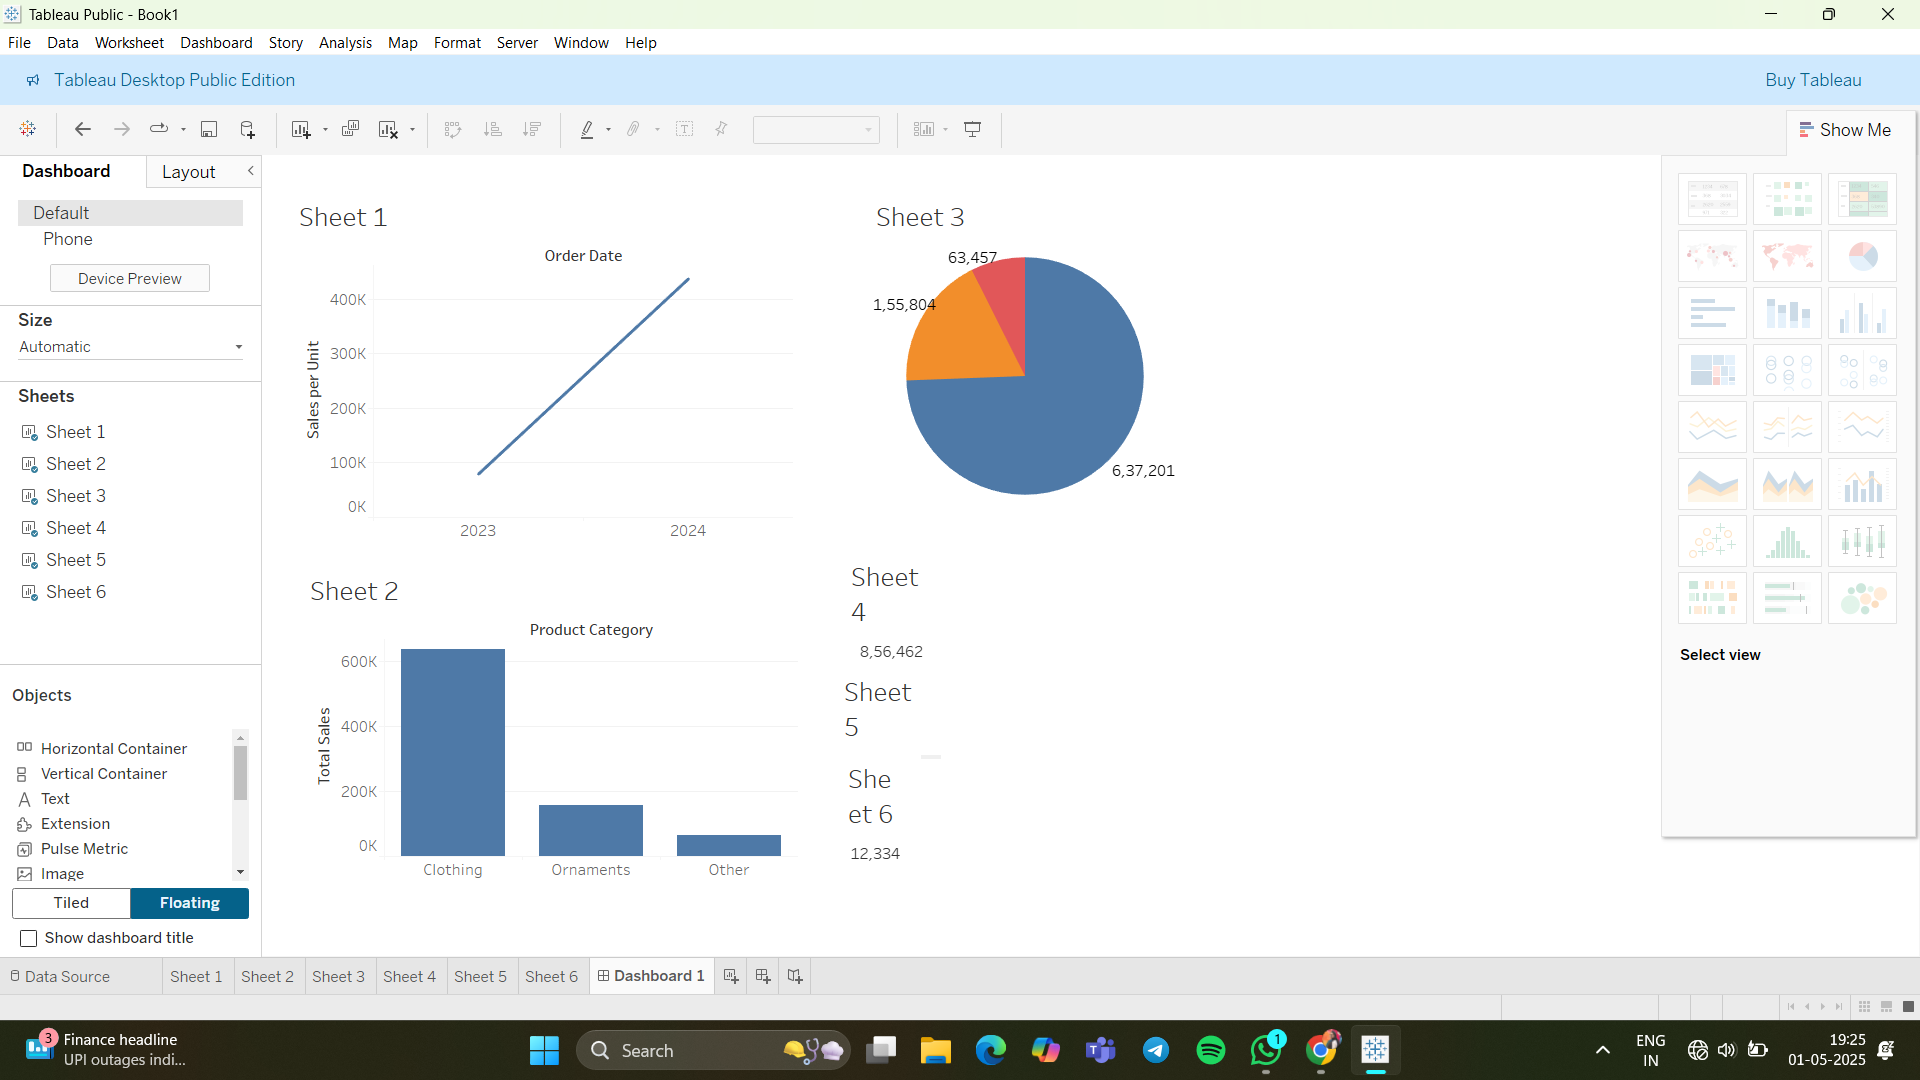

The page's visual inventory and layout, read from the dashboard file:
{"tool":"tableau","page":{"name":"Dashboard 1","canvas":[1000,1000],"units":"permille","ordinal":0},"visuals":[{"type":"worksheet","title":"Sheet 1","mark":"Automatic","rows":["Sales per Unit"],"cols":["Order Date"],"box":[19.9,49.9,300.5,433.2]},{"type":"worksheet","title":"Sheet 3","mark":"Pie","box":[368.1,49.9,333.1,392]},{"type":"worksheet","title":"Sheet 4","mark":"Automatic","box":[353.1,499.4,144.8,136.1]},{"type":"worksheet","title":"Sheet 2","mark":"Automatic","rows":["Total Sales"],"cols":["Product Category"],"box":[26.6,516.9,296.9,389.5]},{"type":"worksheet","title":"Sheet 5","mark":"Automatic","box":[348.8,643,121.9,111.1]},{"type":"worksheet","title":"Sheet 6","mark":"Automatic","box":[351.2,751.6,127.3,137.3]}]}

Visuals, with their boxes on the dashboard's canvas, which has no fixed pixel size, in thousandths of its width and height (x1, y1, x2, y2). These are canvas units, not pixel positions in the 1920x1080 screenshot, which may show the page scaled, cropped or inside an application window:
"Sheet 1" worksheet: select_region(20, 50, 320, 483)
"Sheet 3" worksheet (Pie marks): select_region(368, 50, 701, 442)
"Sheet 4" worksheet: select_region(353, 499, 498, 636)
"Sheet 2" worksheet: select_region(27, 517, 324, 906)
"Sheet 5" worksheet: select_region(349, 643, 471, 754)
"Sheet 6" worksheet: select_region(351, 752, 478, 889)
